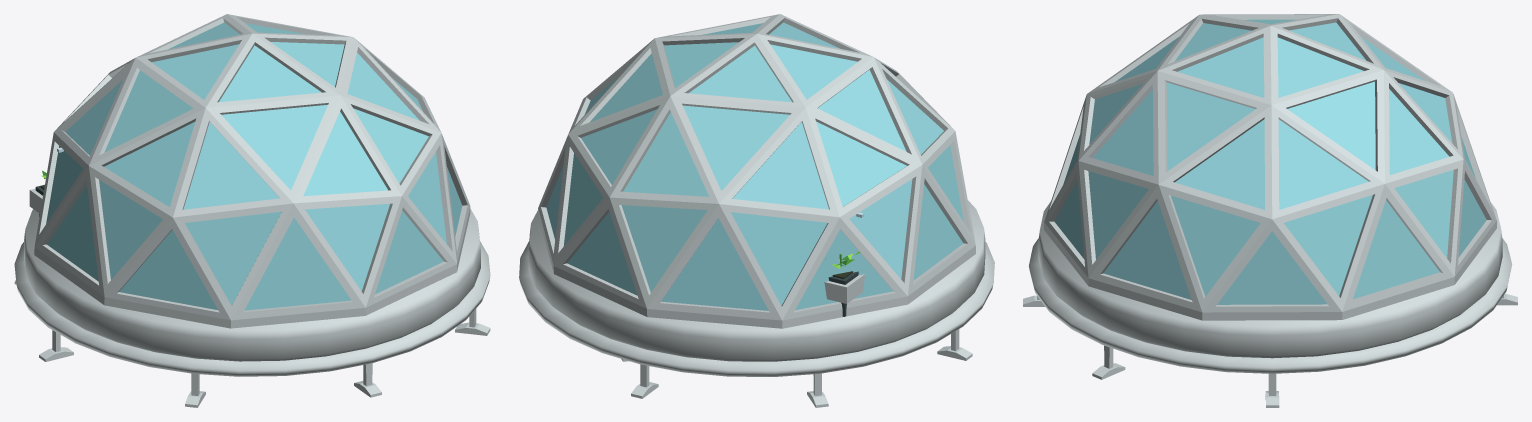
The model's file is Greenhouse_v1_2026-11-14.fbx.
3 views of the same model, side by side, from view 1: azimuth 30°, elevation 25°; view 2: azimuth 150°, elevation 25°; view 3: azimuth 270°, elevation 25° (orthographic).
Visible parts, largest first — view 1: Greenhouse_Frame_Base, Dome_Glass_Panels; view 2: Greenhouse_Frame_Base, Dome_Glass_Panels, Hydroponic_Bed.001; view 3: Greenhouse_Frame_Base, Dome_Glass_Panels.
Boxes of the visible parts, x1,y1,x2,y2 form: Greenhouse_Frame_Base: (14, 14, 490, 407); Dome_Glass_Panels: (46, 22, 462, 310); Greenhouse_Frame_Base: (519, 14, 994, 407); Dome_Glass_Panels: (546, 22, 963, 310); Hydroponic_Bed.001: (824, 274, 864, 303); Greenhouse_Frame_Base: (1023, 14, 1517, 407); Dome_Glass_Panels: (1054, 19, 1486, 304).
Size of the model in its own units: 853 by 528 by 853.
